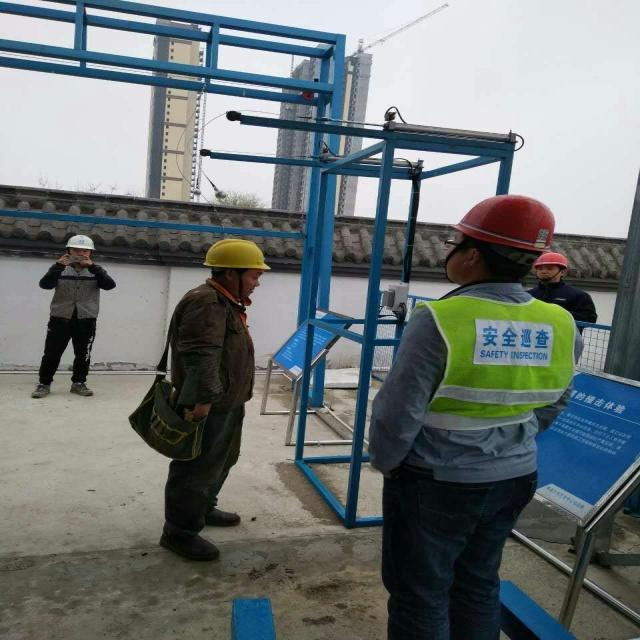helmet: (440, 259, 558, 392), (201, 316, 273, 401), (534, 333, 567, 376), (63, 312, 98, 351), (61, 309, 96, 348)
vest: (404, 385, 582, 588)
